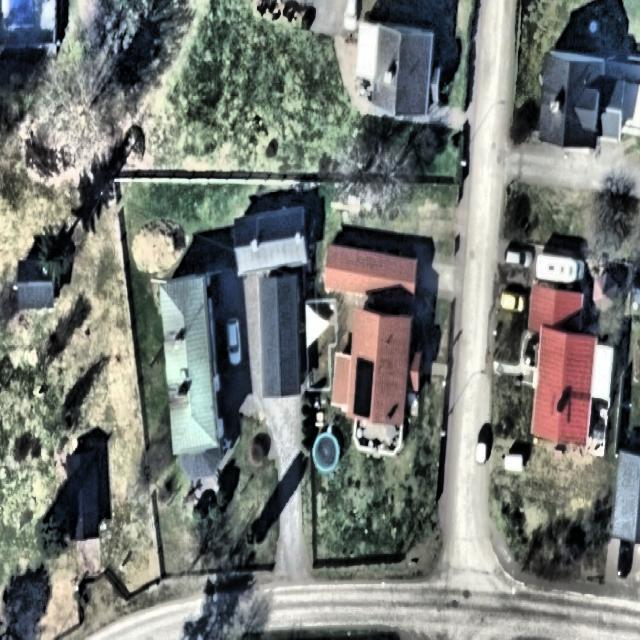roof_pv: (348, 353, 376, 423)
